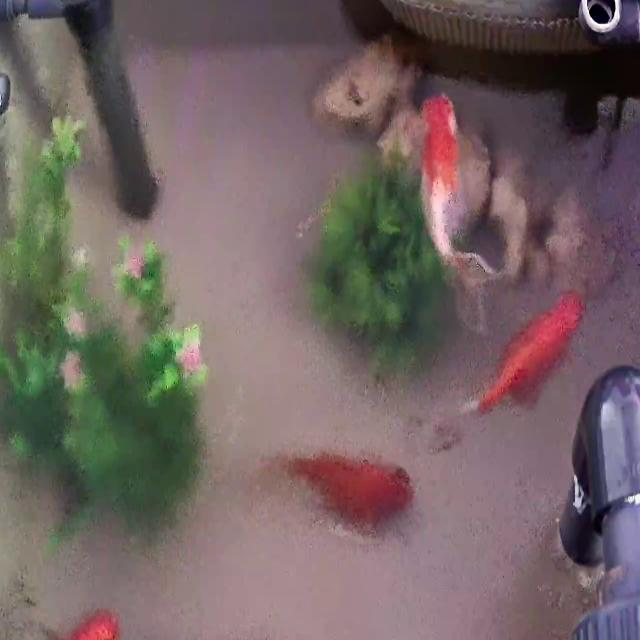fish: (464, 289, 586, 413), (420, 90, 474, 279), (284, 452, 404, 536)
